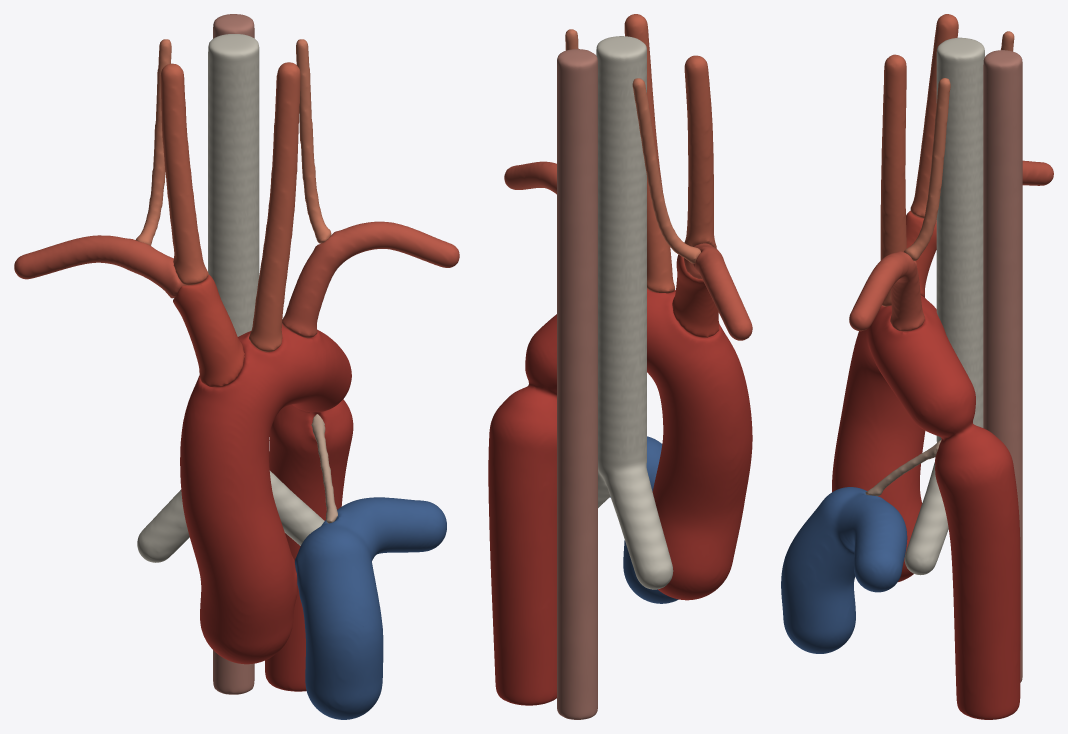
The model's file is aorta_coarctation.glb.
3 views of the same model, side by side, from view 1: azimuth 30°, elevation 25°; view 2: azimuth 150°, elevation 25°; view 3: azimuth 270°, elevation 25° (orthographic). The views are drawn at different scales.
Parts seen in each view (by area): view 1: aorta, pulmonary_trunk, trachea, left_common_carotid, left_subclavian, right_common_carotid, right_subclavian, brachiocephalic_trunk, left_vertebral, oesophagus, right_vertebral, ligamentum_arteriosum; view 2: aorta, oesophagus, trachea, right_common_carotid, left_common_carotid, right_subclavian, right_vertebral, brachiocephalic_trunk, pulmonary_trunk, left_subclavian; view 3: aorta, trachea, oesophagus, pulmonary_trunk, left_common_carotid, left_subclavian, right_common_carotid, left_vertebral, brachiocephalic_trunk, ligamentum_arteriosum, right_subclavian.
Boxes of the visible parts, <box> form: aorta: <box>180,324,353,691</box>; pulmonary_trunk: <box>294,497,446,719</box>; trachea: <box>137,34,324,562</box>; left_common_carotid: <box>249,62,300,352</box>; left_subclavian: <box>282,221,459,338</box>; right_common_carotid: <box>160,63,208,285</box>; right_subclavian: <box>14,235,187,298</box>; brachiocephalic_trunk: <box>173,274,244,387</box>; left_vertebral: <box>296,39,331,243</box>; oesophagus: <box>213,14,254,694</box>; right_vertebral: <box>135,39,171,245</box>; ligamentum_arteriosum: <box>311,414,337,523</box>; aorta: <box>488,289,752,705</box>; oesophagus: <box>557,49,597,719</box>; trachea: <box>596,36,673,589</box>; right_common_carotid: <box>684,55,716,248</box>; left_common_carotid: <box>624,14,674,293</box>; right_subclavian: <box>683,243,752,340</box>; right_vertebral: <box>632,78,700,263</box>; brachiocephalic_trunk: <box>672,249,719,337</box>; pulmonary_trunk: <box>610,436,678,603</box>; left_subclavian: <box>504,161,556,194</box>; aorta: <box>832,295,1020,719</box>; trachea: <box>904,37,984,575</box>; oesophagus: <box>983,50,1022,682</box>; pulmonary_trunk: <box>781,487,907,653</box>; left_common_carotid: <box>880,54,906,306</box>; left_subclavian: <box>849,251,924,331</box>; right_common_carotid: <box>910,14,958,218</box>; left_vertebral: <box>904,78,950,260</box>; brachiocephalic_trunk: <box>906,211,936,297</box>; ligamentum_arteriosum: <box>865,439,941,496</box>; right_subclavian: <box>1022,160,1053,185</box>.
Bounding box in the file's own units: 12.31 × 22.78 × 8.97.
